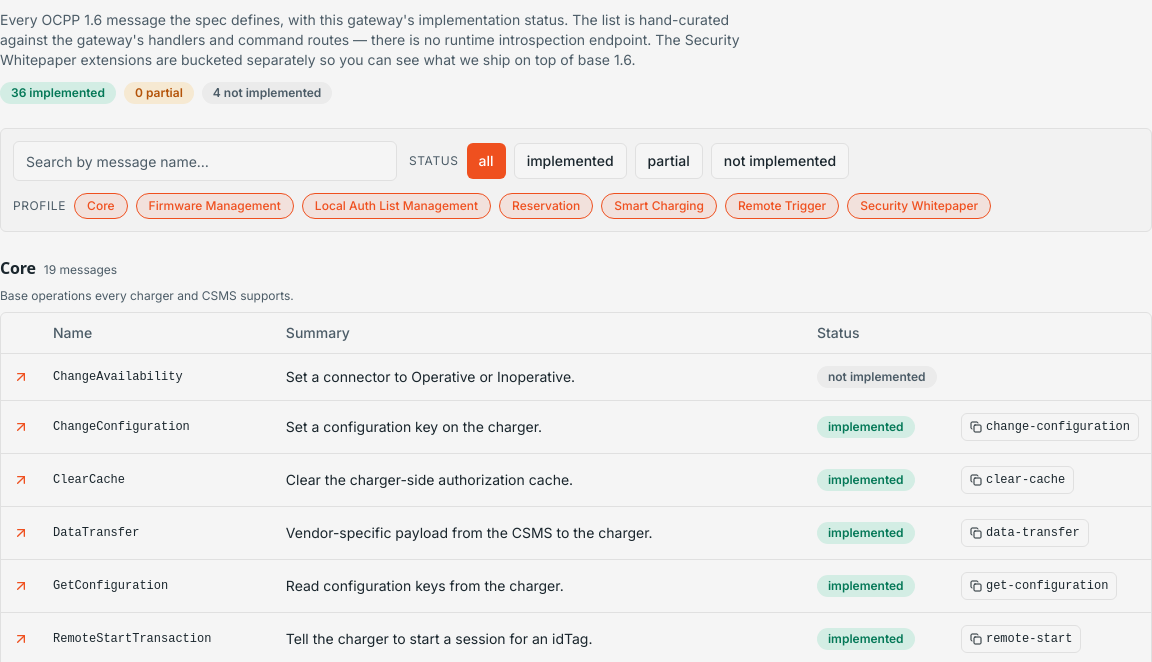
Scenario: OcppConformancePage — filters › status filter narrows to only implemented / partial / not-implemented
This screenshot has width=1152, height=662.
Step 1. Click the radio button labelled "not implemented" → (780, 161), box [711,143,849,179]
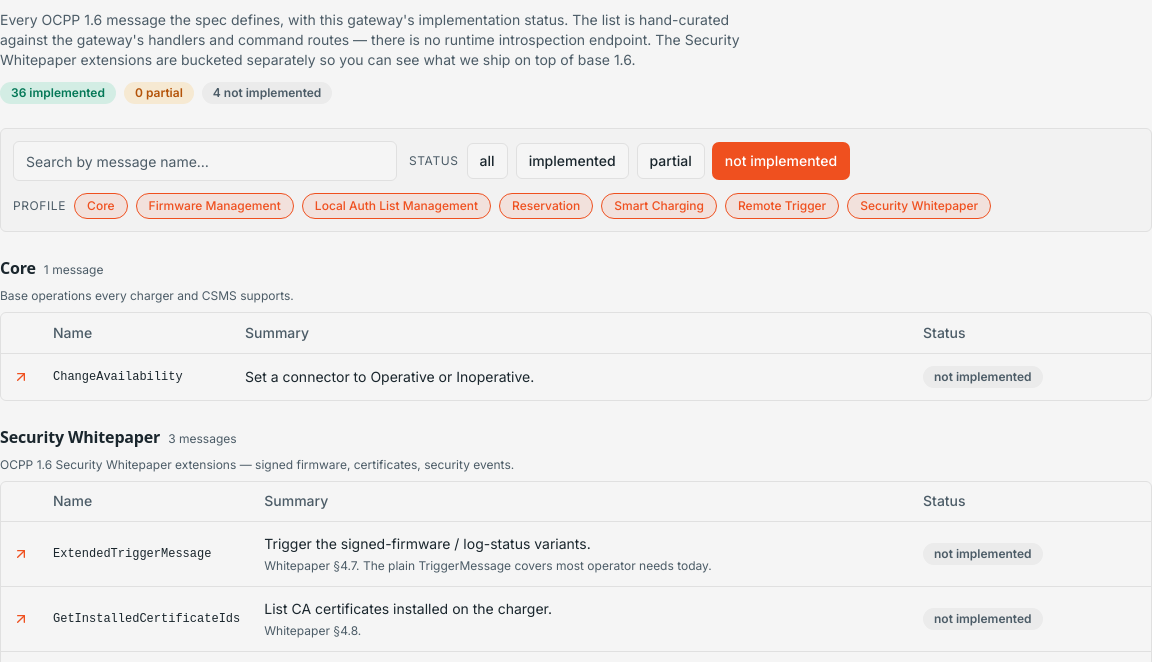
Expected: the row with test id "row-ChangeAvailability-csms-to-charger" is shown, [1,353,1151,400]
Note: Switch back to "all" — Boot is back.
Step 2. Click the radio button labelled "all" → (487, 161), box [467,143,508,179]
(page scrolled)
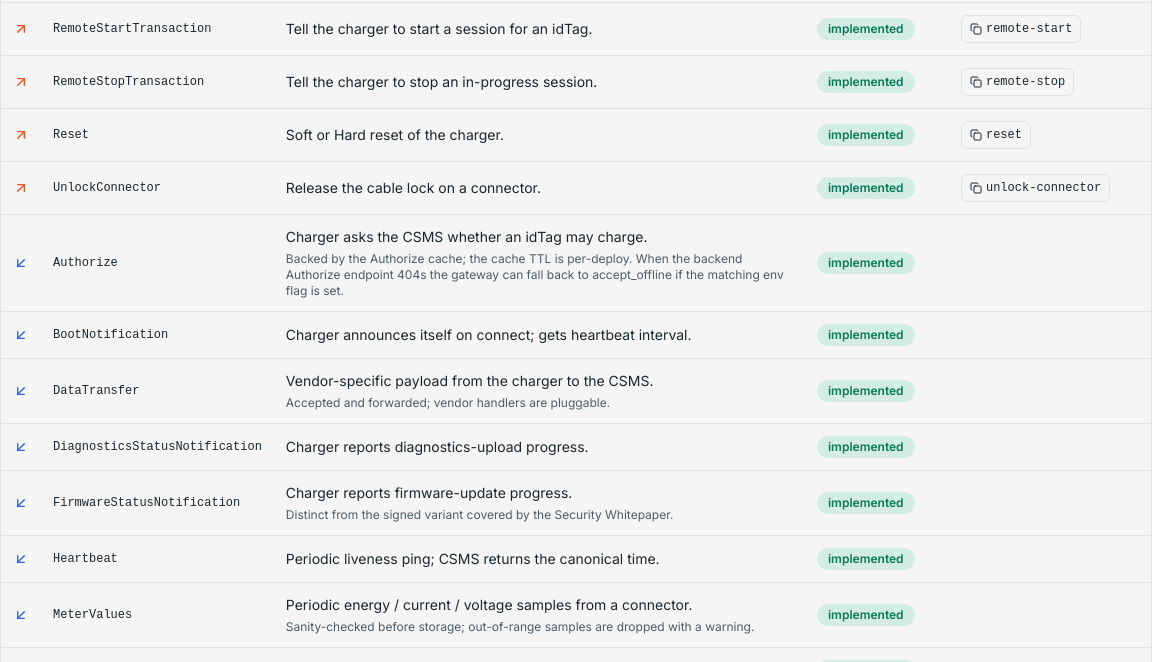
Now the row with test id "row-BootNotification-charger-to-csms" is shown, box [1,311,1151,358]
